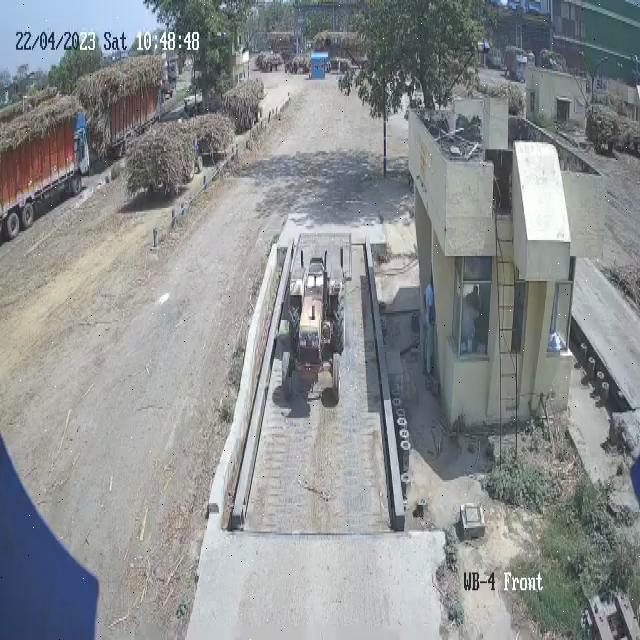Tratores - v5 YOLO V8L 2024-11-13: (285, 242, 347, 418)
